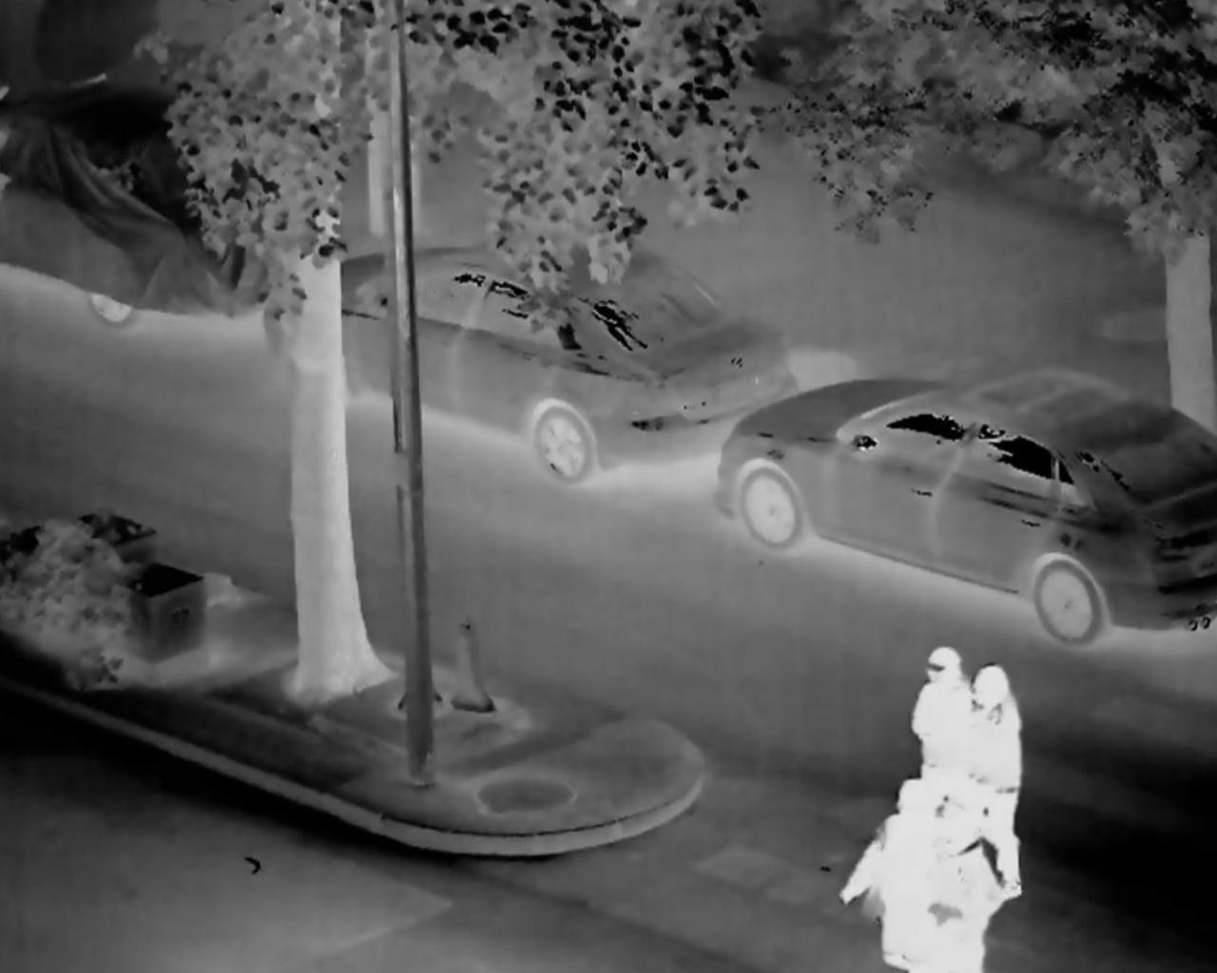person: (868, 632, 985, 878), (837, 781, 971, 973), (970, 660, 1024, 894)
